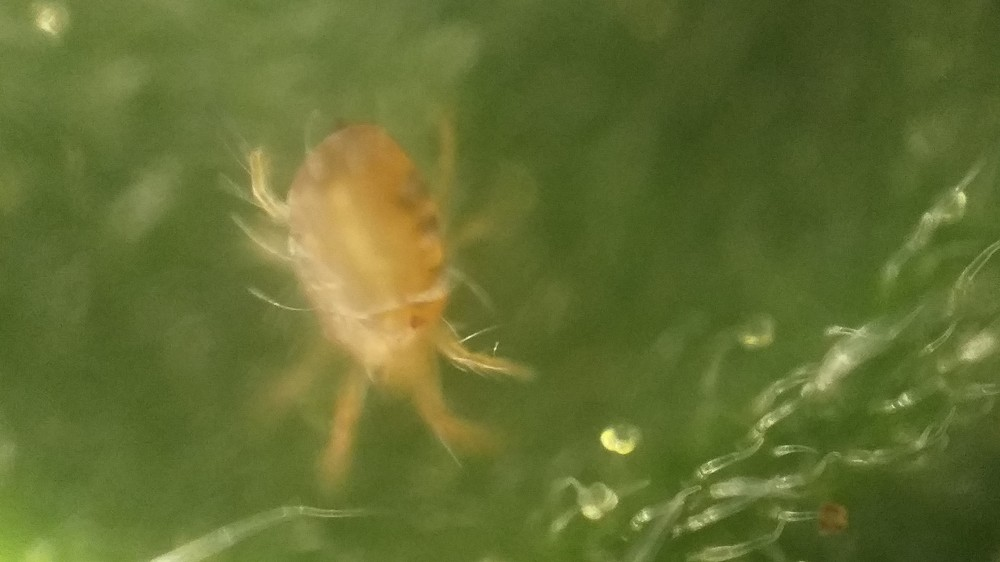Aracnido Rojo: (220, 108, 538, 490)
